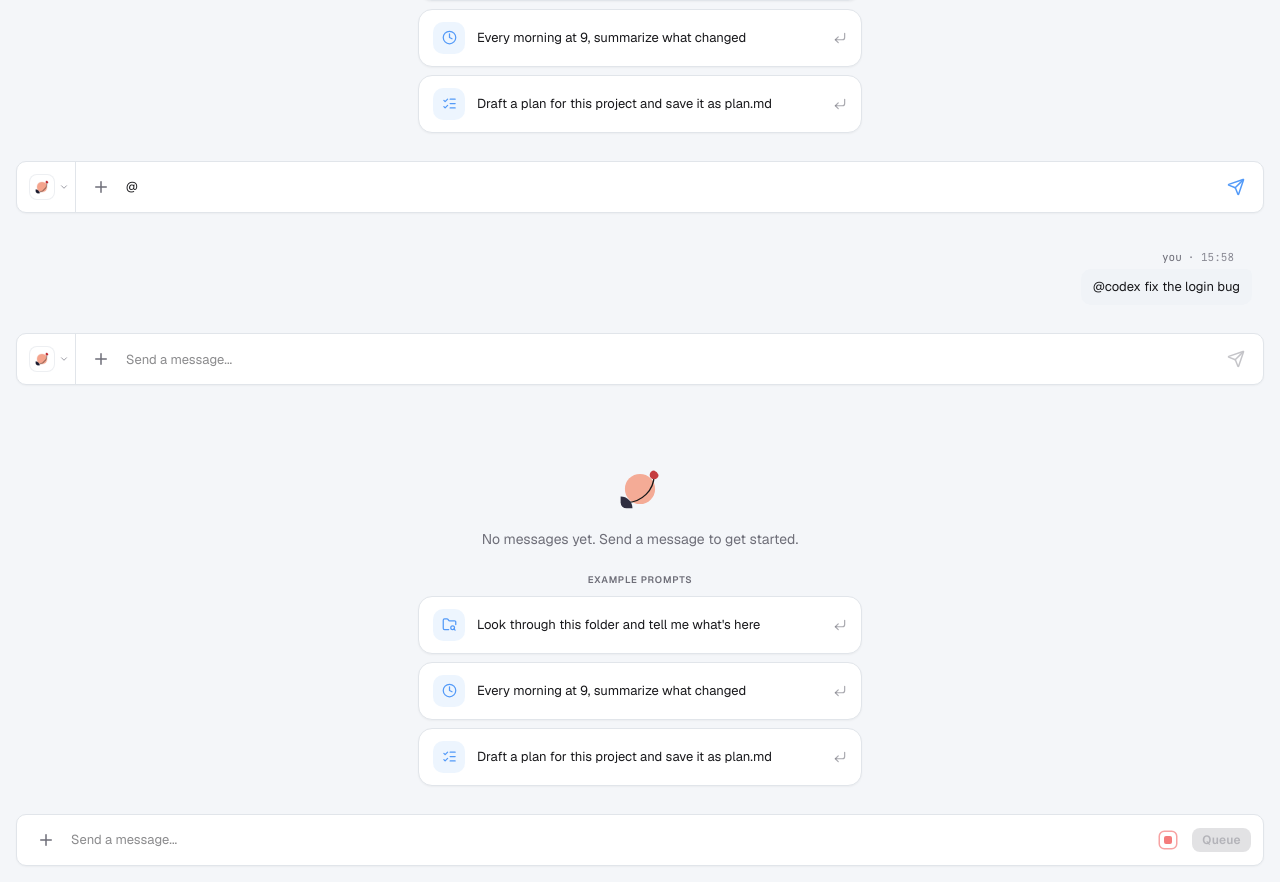
Test: ChatView Stop button: isCancelling optimistic state › sets aria-label="Cancelling" synchronously on Stop click and shows a spinner
The image size is (1280, 882).
(page scrolled)
Click the button named "Stop" at [1168, 840], box [1152, 824, 1184, 856]
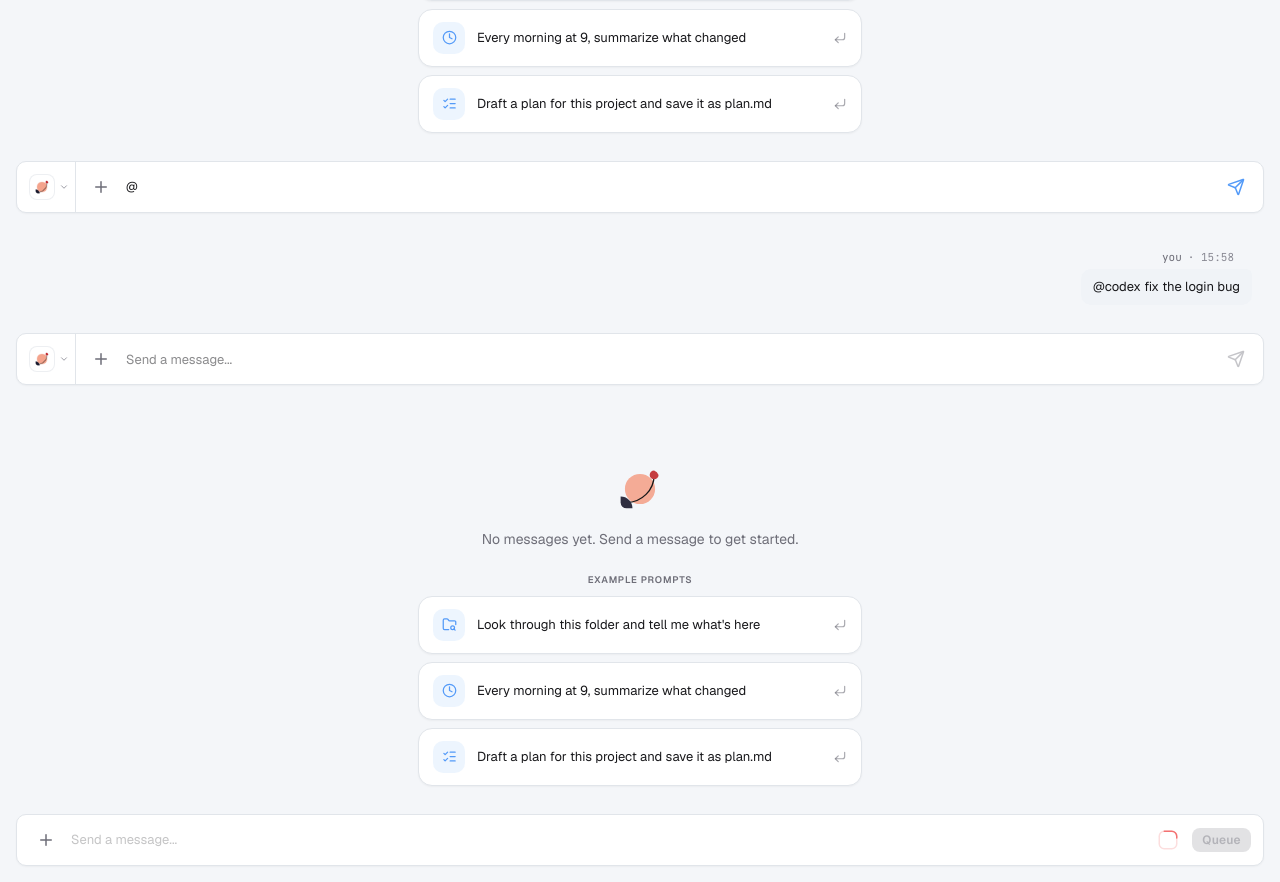
Expected: the element with class "animate-stop-arc" is shown, [1160, 831, 1177, 848]
Expected: the button named "Stop" is disabled, [1152, 824, 1184, 856]
Expected: the 2nd text box with placeholder "Send a message..." is disabled, [71, 829, 1144, 850]
